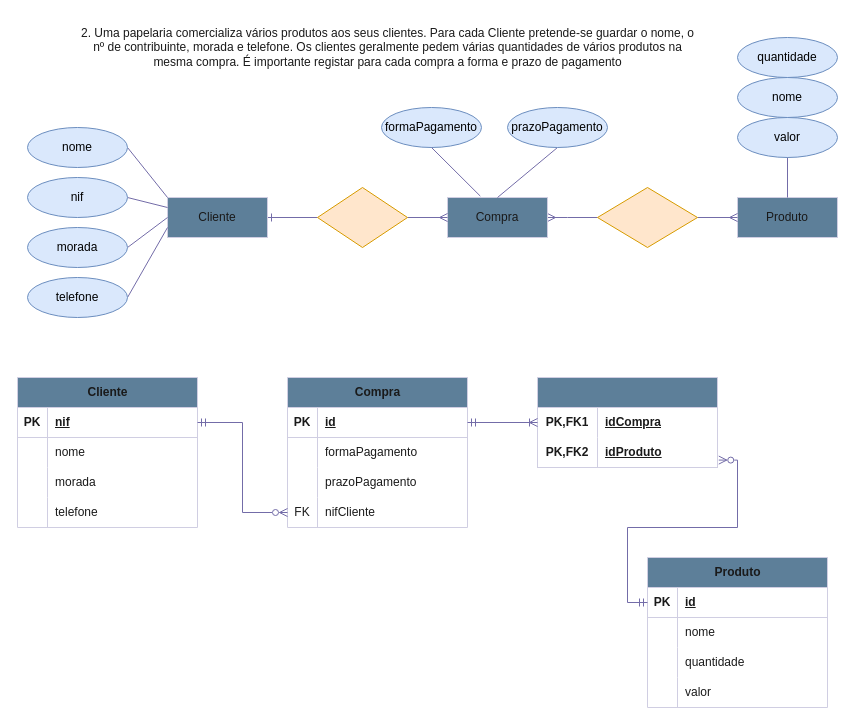
Some shapes in this 855 by 725 pixel diagram are drawn without their labels. Each missing label, with the box of its shape:
Compra_Produto: (536, 376, 718, 468)
FAZ: (316, 186, 408, 248)
TEM: (596, 186, 698, 248)
